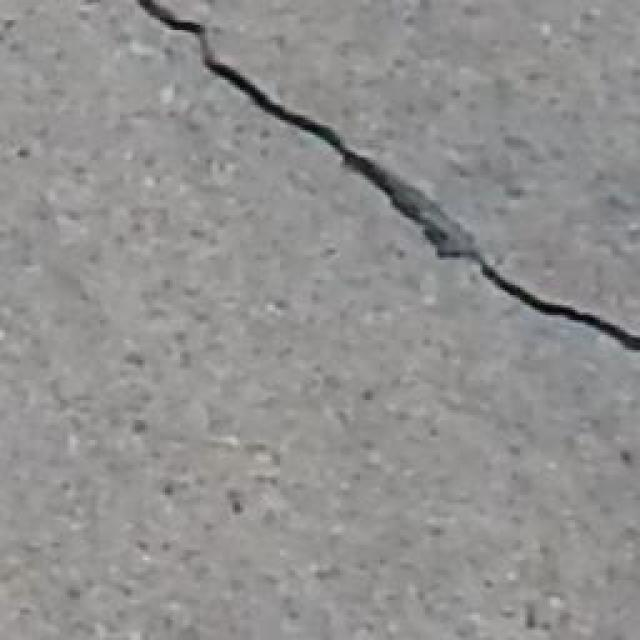concrete-crack: (135, 0, 640, 355)
